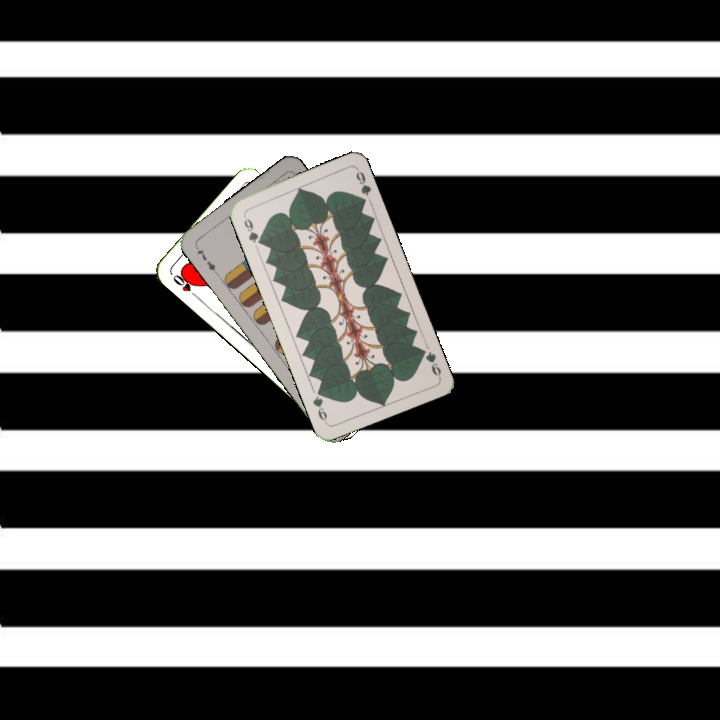E7: (191, 242, 220, 277)
G9: (415, 344, 444, 380), (239, 210, 265, 247)
HO: (169, 270, 201, 301)
